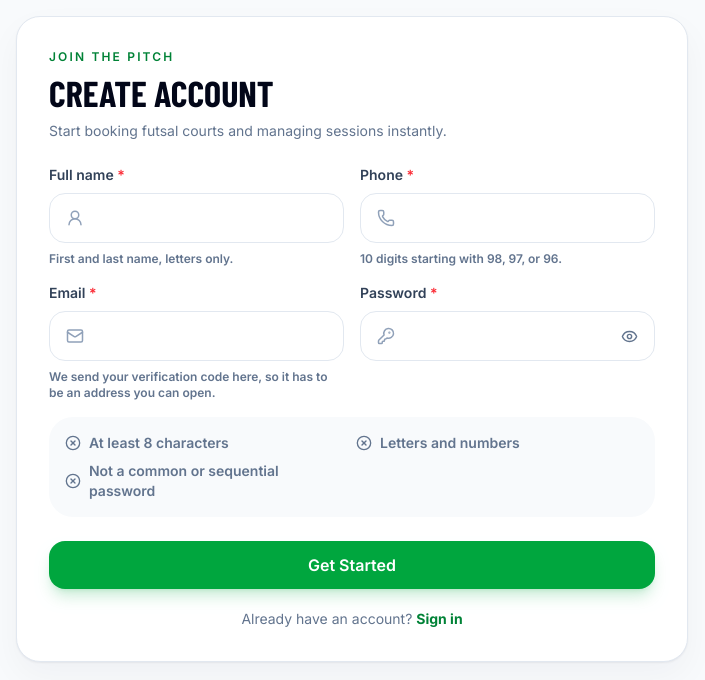
Register › strips non-digits from the phone number as it is typed
Type "98-00 00 00 09" into the field labelled "Phone * 10 digits starting with 98, 97, or 96." at (508, 218), box [360,193,655,243]
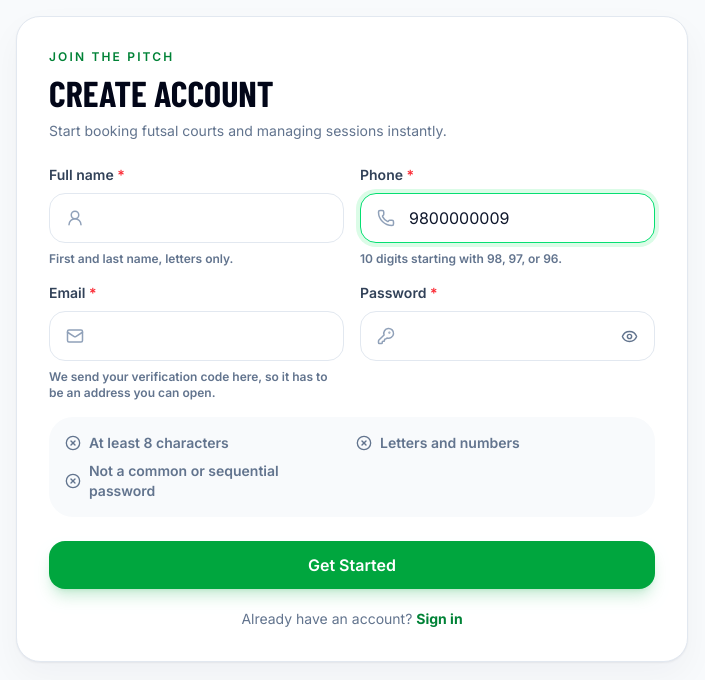
Expected: the field labelled "Phone * 10 digits starting with 98, 97, or 96." holds "9800000009", [360,193,655,243]
